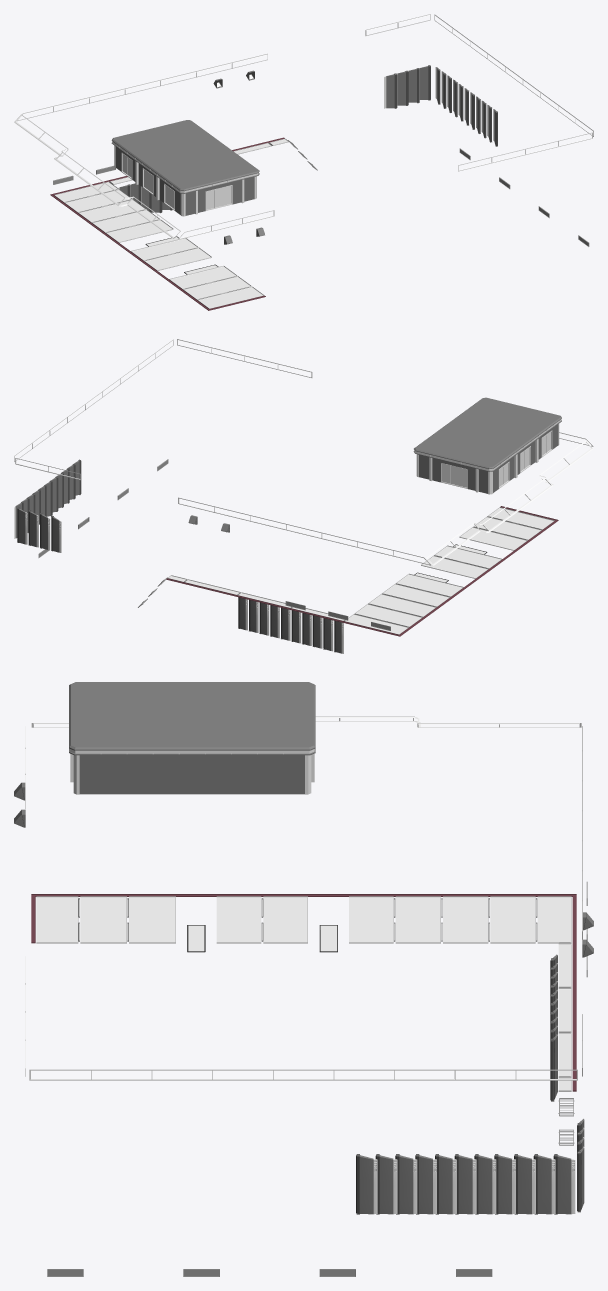
The picture shows the model from 3 angles, top to bottom: view 1: azimuth 30°, elevation 25°; view 2: azimuth 150°, elevation 25°; view 3: azimuth 270°, elevation 25°; orthographic projection. The views are drawn at different scales.
Visible parts, largest first — view 1: SM_H_Building_FutureTech_CtControl_01_ExterWall_01A; view 2: SM_H_Building_FutureTech_CtControl_01_ExterWall_01A; view 3: SM_H_Building_FutureTech_CtControl_01_ExterWall_01A.
Part boxes in pixels (<box>): SM_H_Building_FutureTech_CtControl_01_ExterWall_01A: <box>14,14,593,310</box>; SM_H_Building_FutureTech_CtControl_01_ExterWall_01A: <box>14,339,593,653</box>; SM_H_Building_FutureTech_CtControl_01_ExterWall_01A: <box>14,682,593,1276</box>.
Bounding box in the file's own units: 1573 × 2310 × 794.
